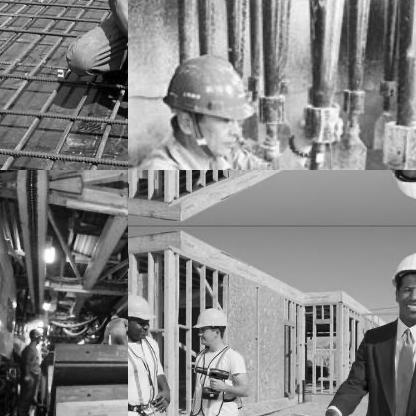Helmet: (157, 39, 255, 157), (382, 241, 415, 327), (190, 300, 232, 352), (128, 287, 157, 340), (381, 170, 415, 208), (28, 326, 42, 346)
